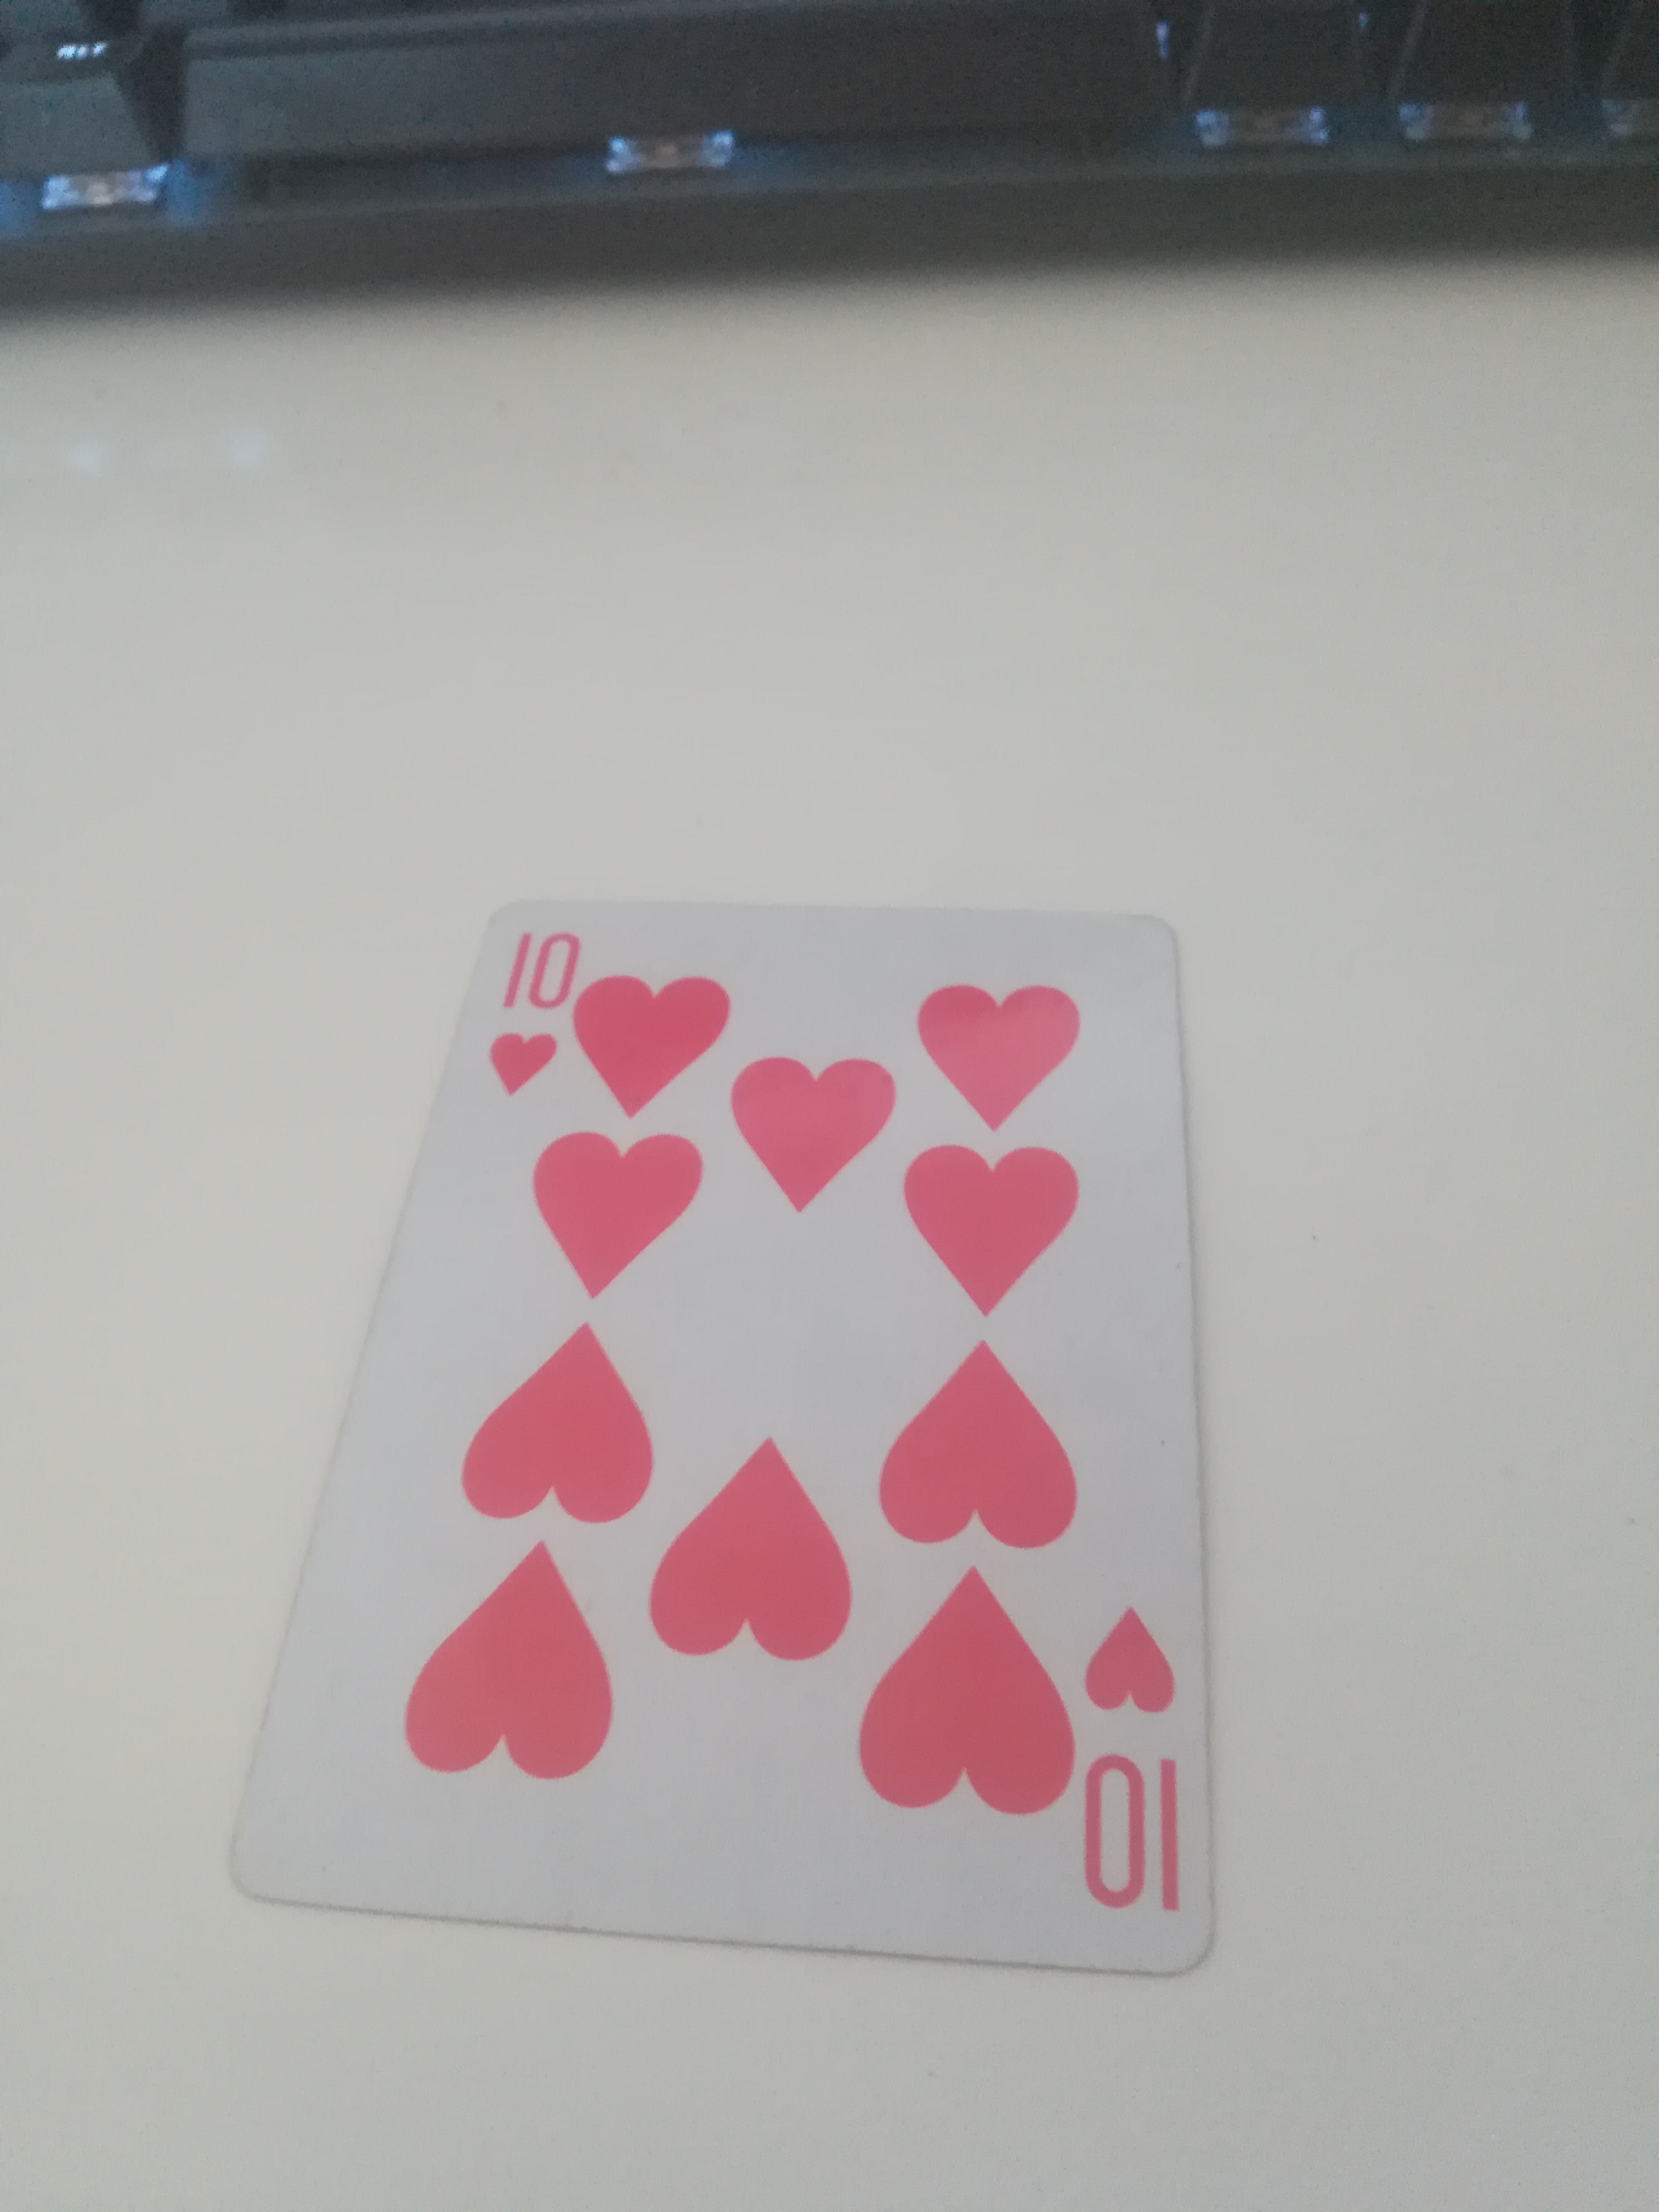10H: (244, 887, 1225, 1987)
